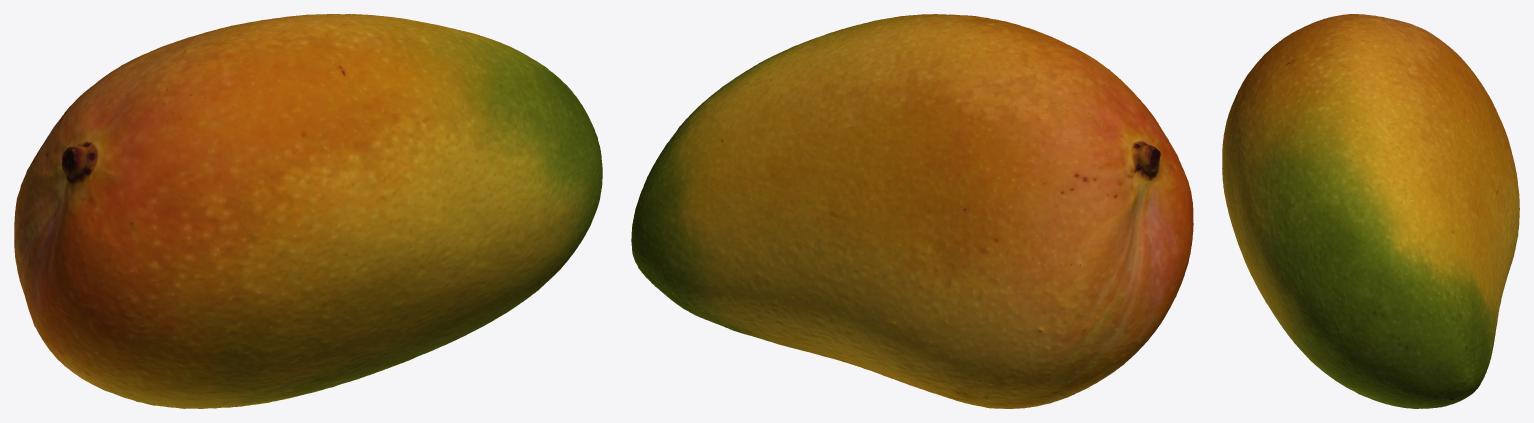
Rendered from mango.glb.
3 views of the same model, side by side, from view 1: azimuth 30°, elevation 25°; view 2: azimuth 150°, elevation 25°; view 3: azimuth 270°, elevation 25° (orthographic). The views are drawn at different scales.
Parts seen in each view (by area): view 1: mgobjcleanermaterialmergergles; view 2: mgobjcleanermaterialmergergles; view 3: mgobjcleanermaterialmergergles.
Boxes of the visible parts, box(x1,y1,x2,y2) form: mgobjcleanermaterialmergergles: box(14, 14, 602, 408); mgobjcleanermaterialmergergles: box(631, 14, 1193, 408); mgobjcleanermaterialmergergles: box(1222, 14, 1519, 408).
Bounding box in the file's own units: 2.31 × 1.47 × 1.34.
Materials: 1 (1 with a texture image).
